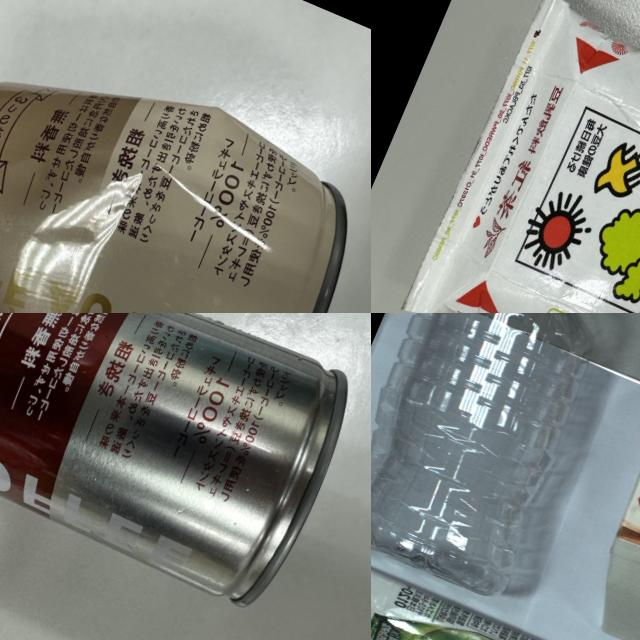Aluminium Foil: (401, 0, 640, 313), (371, 530, 640, 640), (561, 341, 640, 640)
Can: (0, 3, 371, 313), (0, 313, 357, 610)
Transparent Plastic Bottle: (371, 313, 640, 607)
